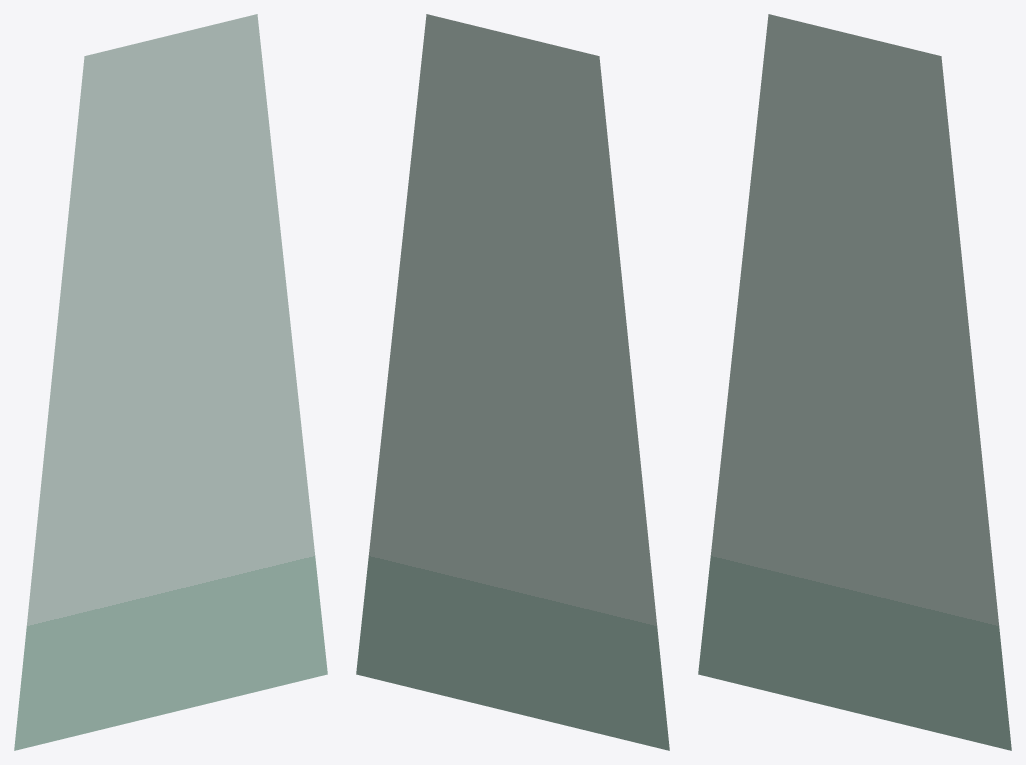
Rendered from LightGreen_01.fbx.
3 views of the same model, side by side, from view 1: azimuth 30°, elevation 25°; view 2: azimuth 150°, elevation 25°; view 3: azimuth 330°, elevation 25° (orthographic).
Visible parts, largest first — view 1: LightGreen_01; view 2: LightGreen_01; view 3: LightGreen_01.
Part boxes in pixels (x1,y1,x2,y2): LightGreen_01: [14, 14, 327, 750]; LightGreen_01: [356, 14, 669, 750]; LightGreen_01: [698, 14, 1011, 750].
Size of the model in its own units: 133 by 274 by 3.27e-05.
Materials: 1 (1 with a texture image).
